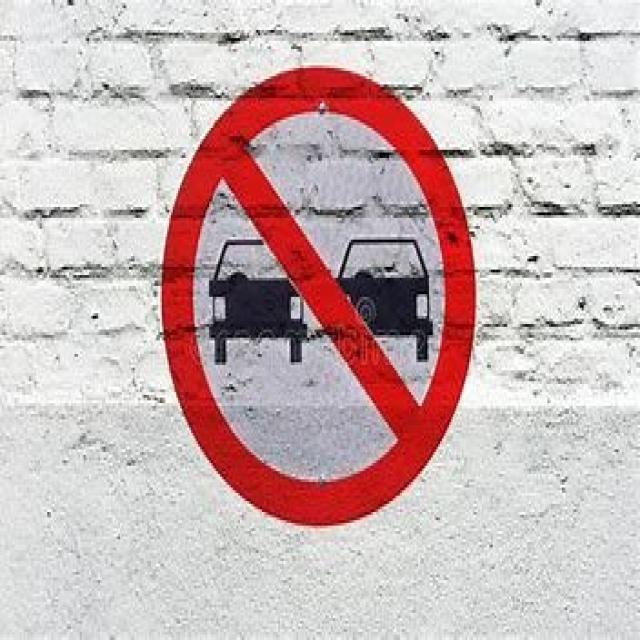overtaking prohibited: (160, 64, 479, 528)
